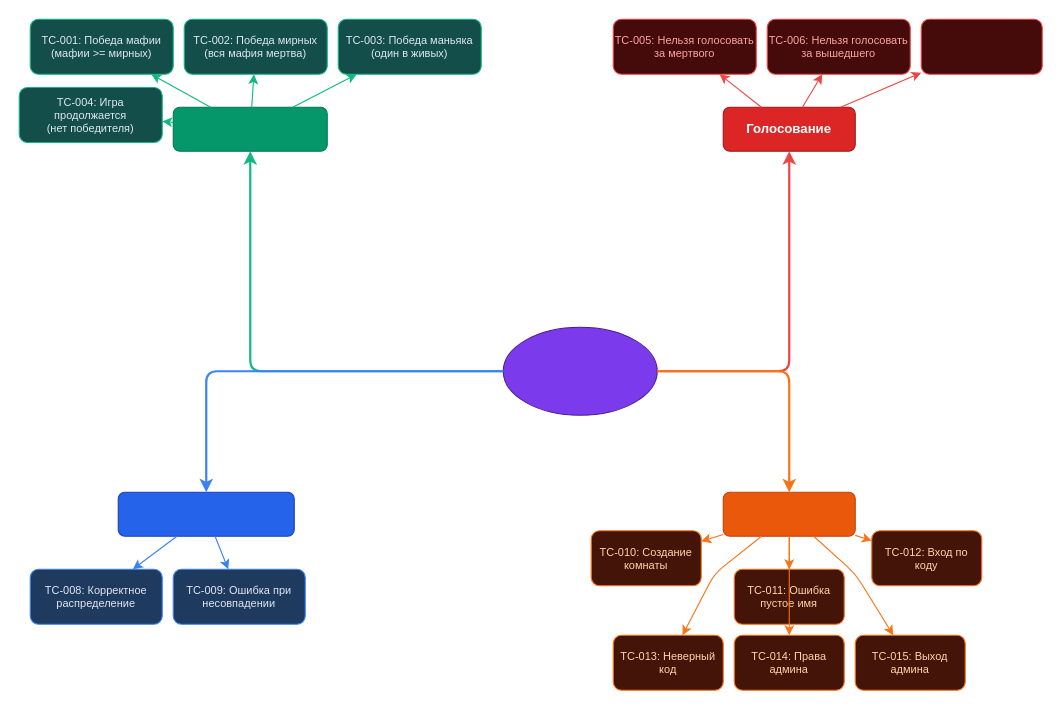
Image size: 1062x710. Some labels were removed from this diagram. The centre of each missing label's shape, as x and y in pixels:
API Комнат: (788,513)
Mafia Online Тестирование: (579,370)
TC-007: Успешное голосование: (981,46)
Распределение ролей: (205,513)
Условия победы: (249,128)
